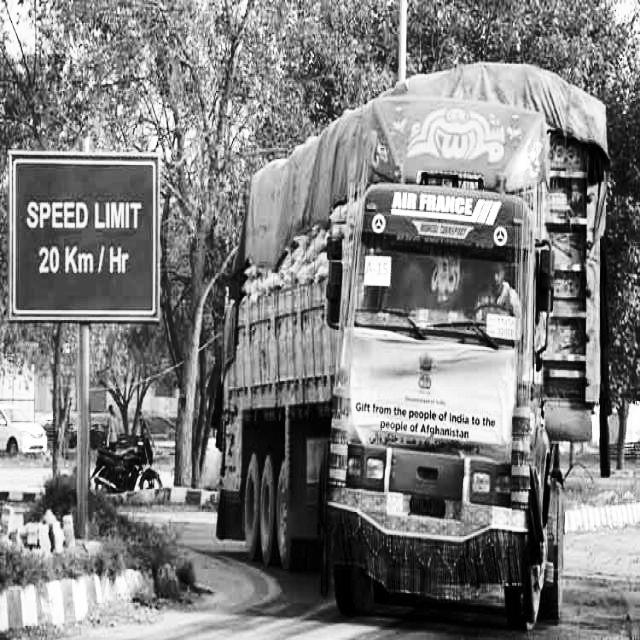HCV: (219, 0, 626, 640)
